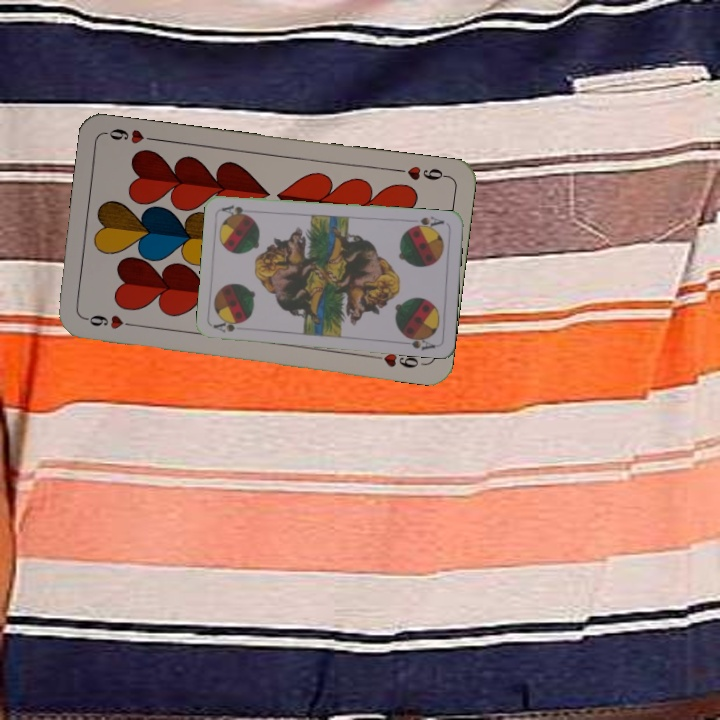H9: (391, 162, 450, 183), (80, 311, 139, 332)
SA: (407, 213, 447, 232), (210, 318, 243, 335)
